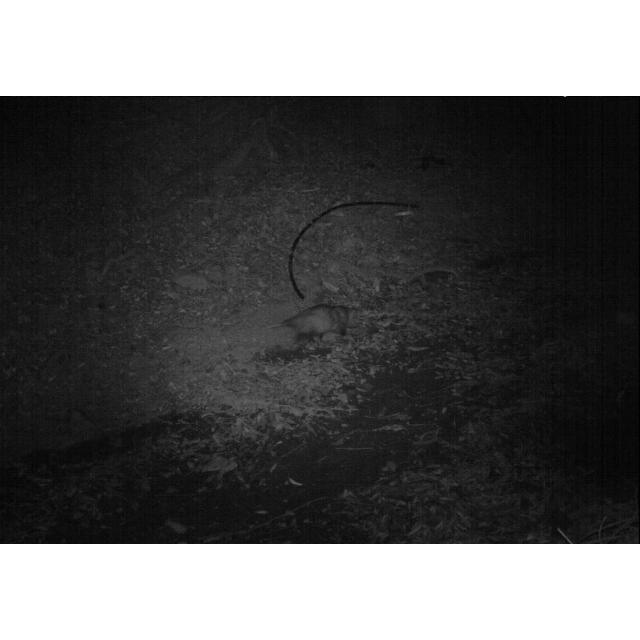animals: (266, 304, 354, 351)
